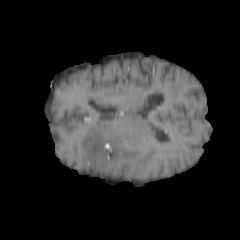glioma: (79, 128, 147, 169)
